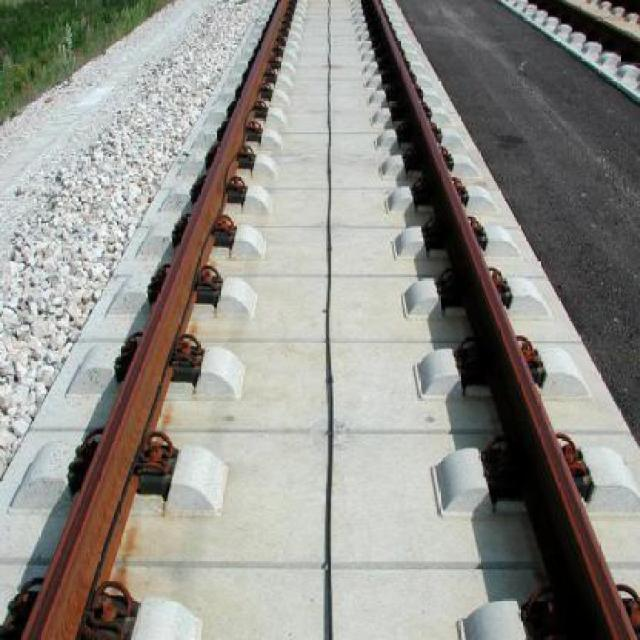defective: (88, 0, 575, 638)
